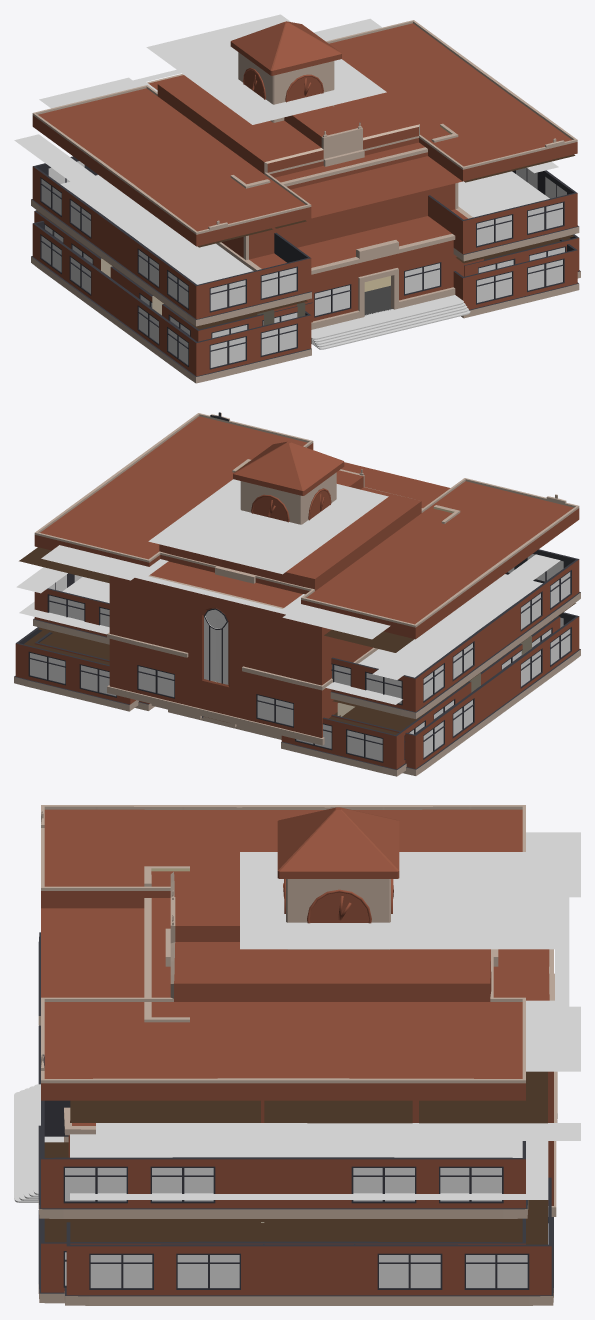
The model's file is ClockTower.fbx.
3 renders of one model, top to bottom at view 1: azimuth 30°, elevation 25°; view 2: azimuth 150°, elevation 25°; view 3: azimuth 270°, elevation 25°, orthographic. The views are drawn at different scales.
Parts seen in each view (by area): view 1: Main_Roof, Auditorium, FL2.Exterior_Export, FL1.Exterior, Roof, ClockTower, Plane, FL1.Exterior_Export, Stairs.001, FL2.Interior, AuditoriumFloor, FL1.Interior.HP (+1 smaller); view 2: Main_Roof, Auditorium, Roof, FL2.Exterior_Export, FL1.Exterior_Export, FL1.Exterior, ClockTower, Plane, FL2.Interior.LP, FL2.Interior.LP.001, Auditorium.Glass, FL2.Interior; view 3: Main_Roof, Roof, FL1.Exterior_Export, FL2.Exterior_Export, ClockTower, Plane, FL2.Interior.LP.001, FL2.Interior.LP, Auditorium, FL1.Exterior, Stairs.001, FL2.Interior (+1 smaller).
Part boxes in pixels (x1,y1,x2,y2): Main_Roof: (32, 20, 577, 246); Auditorium: (147, 74, 483, 329); FL2.Exterior_Export: (31, 156, 579, 326); FL1.Exterior: (31, 221, 579, 383); Roof: (14, 14, 558, 259); ClockTower: (230, 21, 341, 122); Plane: (60, 171, 549, 284); FL1.Exterior_Export: (34, 210, 580, 341); Stairs.001: (311, 295, 470, 349); FL2.Interior: (36, 210, 574, 328); AuditoriumFloor: (364, 285, 392, 315); FL1.Interior.HP: (101, 258, 305, 325); Main_Roof: (34, 412, 579, 639); Auditorium: (107, 459, 460, 745); Roof: (16, 479, 560, 679); FL2.Exterior_Export: (33, 549, 580, 718); FL1.Exterior_Export: (14, 616, 560, 776); FL1.Exterior: (34, 612, 580, 775); ClockTower: (233, 441, 344, 524); Plane: (19, 574, 542, 704); FL2.Interior.LP: (24, 630, 413, 734); FL2.Interior.LP.001: (19, 547, 414, 652); Auditorium.Glass: (204, 608, 228, 684); FL2.Interior: (38, 603, 575, 721); Main_Roof: (41, 805, 525, 1100); Roof: (96, 832, 580, 1140); FL1.Exterior_Export: (64, 1177, 553, 1305); FL2.Exterior_Export: (38, 932, 528, 1218); ClockTower: (277, 807, 399, 949); Plane: (70, 1134, 548, 1199); FL2.Interior.LP.001: (70, 1071, 547, 1123); FL2.Interior.LP: (70, 1200, 547, 1244); Auditorium: (64, 866, 557, 1216); FL1.Exterior: (38, 1025, 525, 1303); Stairs.001: (14, 1084, 63, 1202); FL2.Interior: (44, 1142, 522, 1222).
Size of the model in its own units: 41.63 by 28.35 by 35.03.
